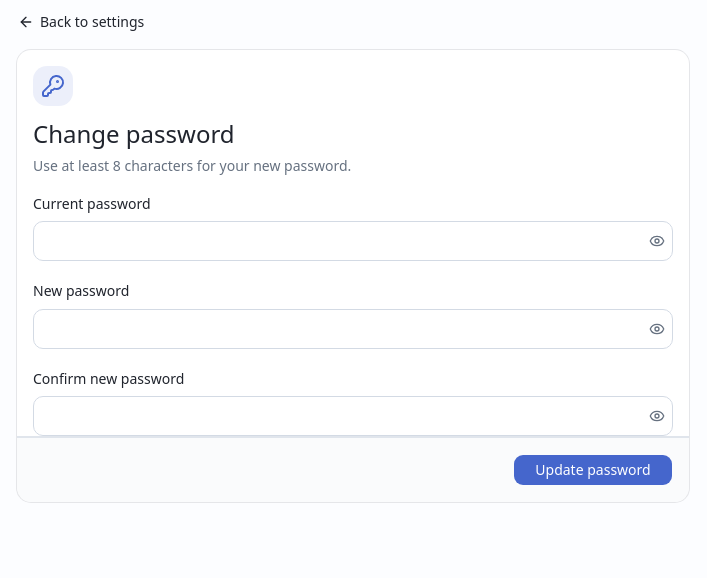
Test: ChangePasswordPage › updates the password and clears the sensitive values
The image size is (707, 578).
Type "current-password" into the password field labelled "Current password".
click(339, 241); type("current-password")  # box [34, 222, 645, 260]
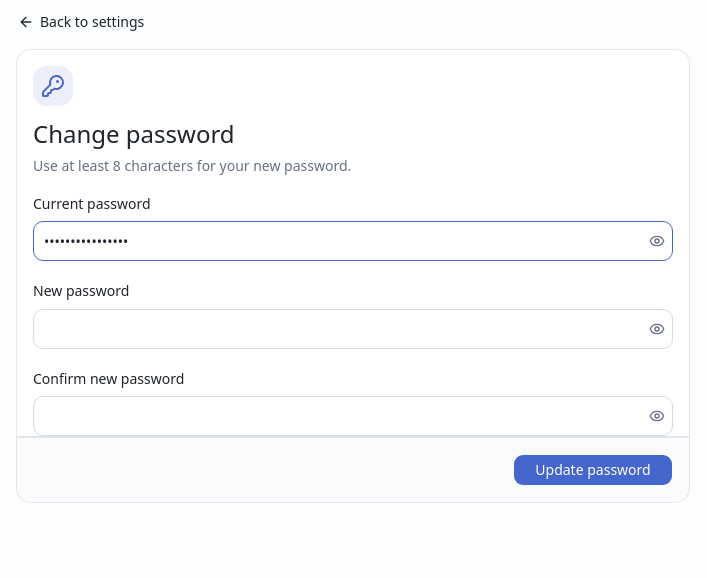
Type "new-password" into the password field labelled "New password".
click(339, 328); type("new-password")  # box [34, 310, 645, 348]
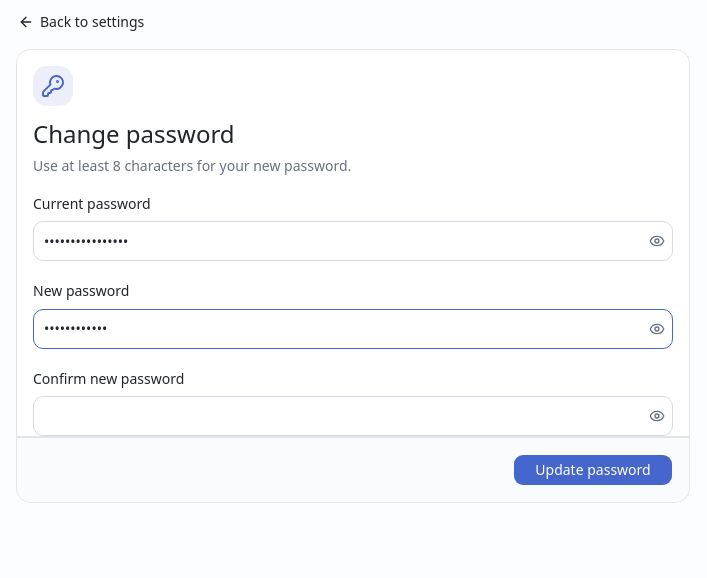
Type "new-password" into the password field labelled "Confirm new password".
click(339, 416); type("new-password")  # box [34, 397, 645, 435]
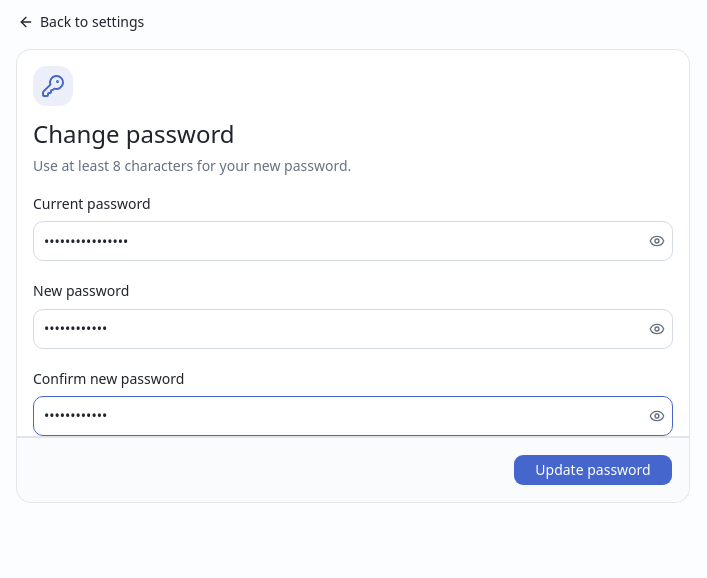
Click the button "Update password".
click(593, 470)  # box [513, 454, 673, 486]
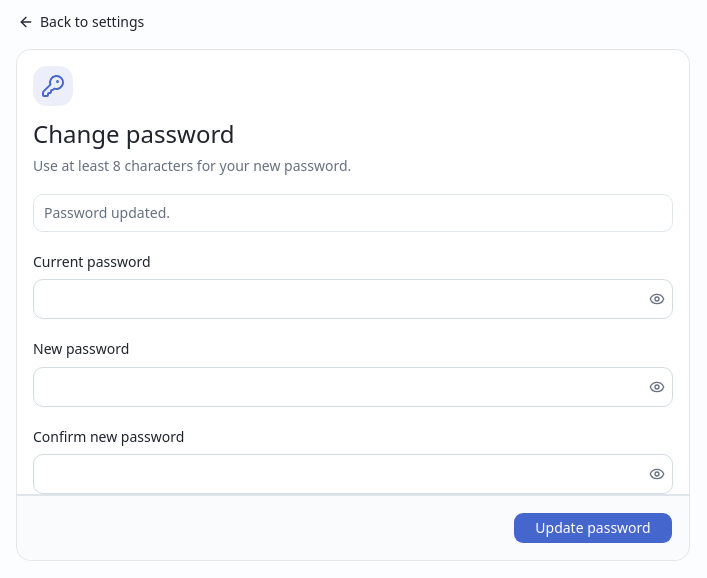
Expected: the text "Password updated." is shown, [44, 203, 170, 222]
Expected: the password field labelled "Current password" is empty, [34, 280, 645, 318]
Expected: the password field labelled "New password" is empty, [34, 368, 645, 406]
